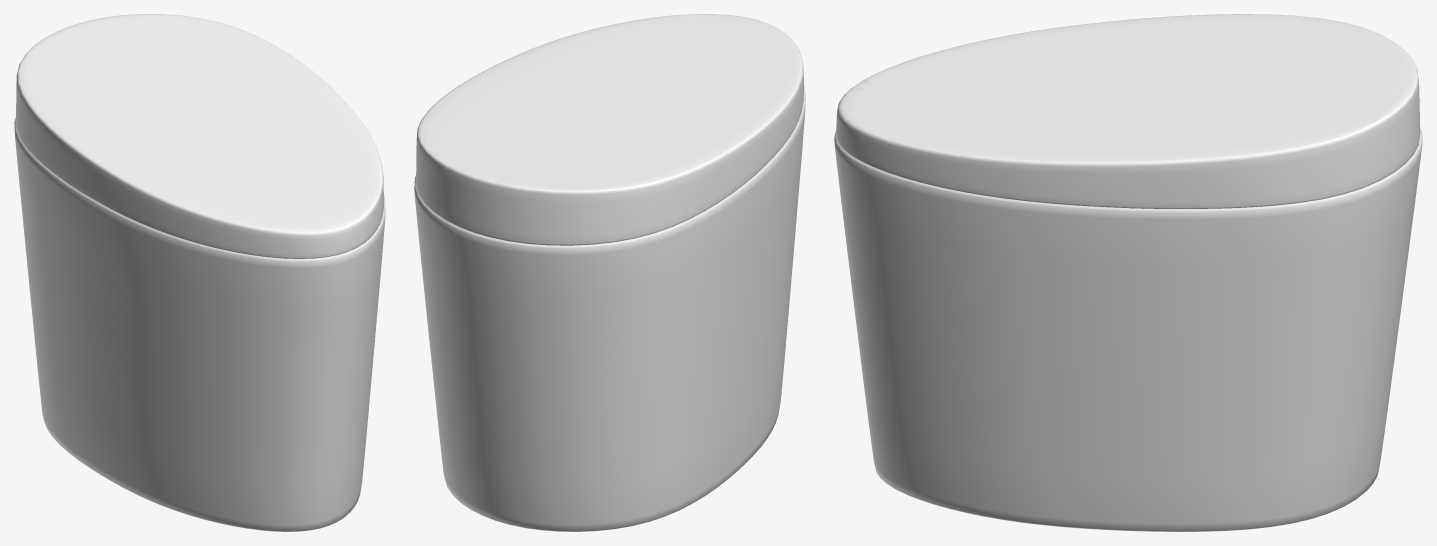
File: Sanitary ware _003.gltf
3 renders of one model, left to right at view 1: azimuth 30°, elevation 25°; view 2: azimuth 150°, elevation 25°; view 3: azimuth 270°, elevation 25°, orthographic. The views are drawn at different scales.
Parts seen in each view (by area): view 1: Sanitary ware _003; view 2: Sanitary ware _003; view 3: Sanitary ware _003.
Boxes of the visible parts, x1=… form: Sanitary ware _003: x1=14, y1=14, x2=385, y2=531; Sanitary ware _003: x1=414, y1=14, x2=805, y2=531; Sanitary ware _003: x1=834, y1=14, x2=1422, y2=531.
Bounding box in the file's own units: 0.43 × 0.533 × 0.72.
1 material, 1 textured.
